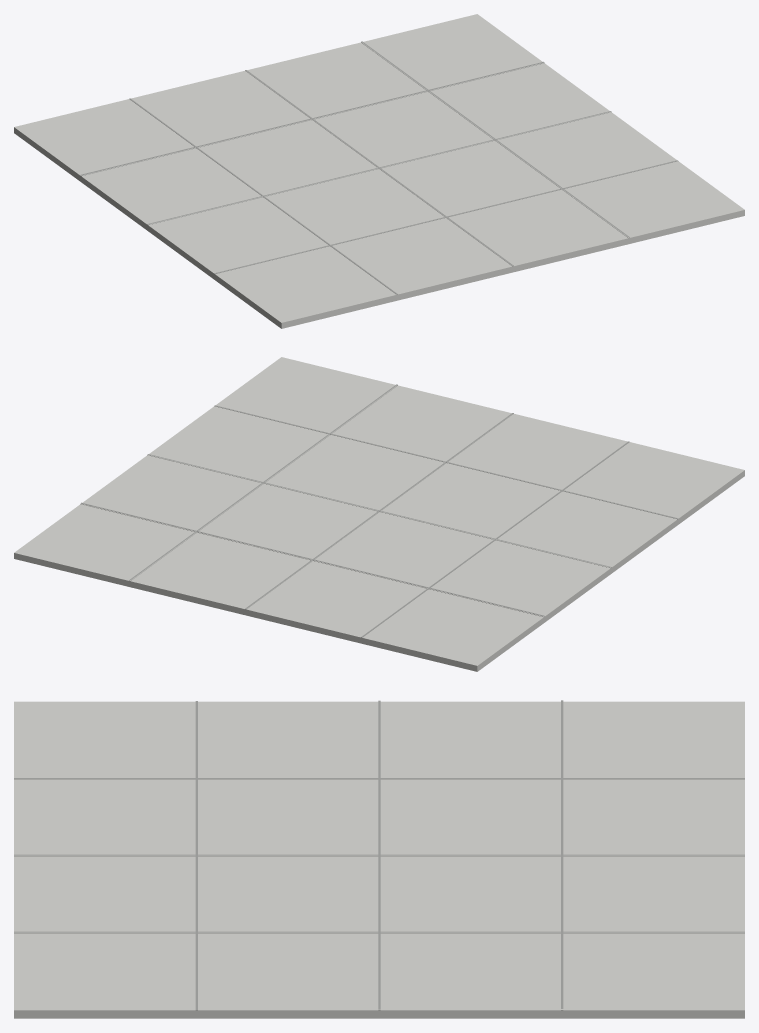
File: Floor_Tile.glb
The picture shows the model from 3 angles, top to bottom: view 1: azimuth 30°, elevation 25°; view 2: azimuth 150°, elevation 25°; view 3: azimuth 270°, elevation 25°; orthographic projection. The views are drawn at different scales.
Parts seen in each view (by area): view 1: Floor_Tile; view 2: Floor_Tile; view 3: Floor_Tile.
Part boxes in pixels (x1=…): Floor_Tile: x1=14, y1=14, x2=744, y2=328; Floor_Tile: x1=14, y1=357, x2=744, y2=671; Floor_Tile: x1=14, y1=700, x2=744, y2=1018.
Bounding box in the file's own units: 4 × 0.058 × 4.
Materials: 1 (1 with a texture image).
